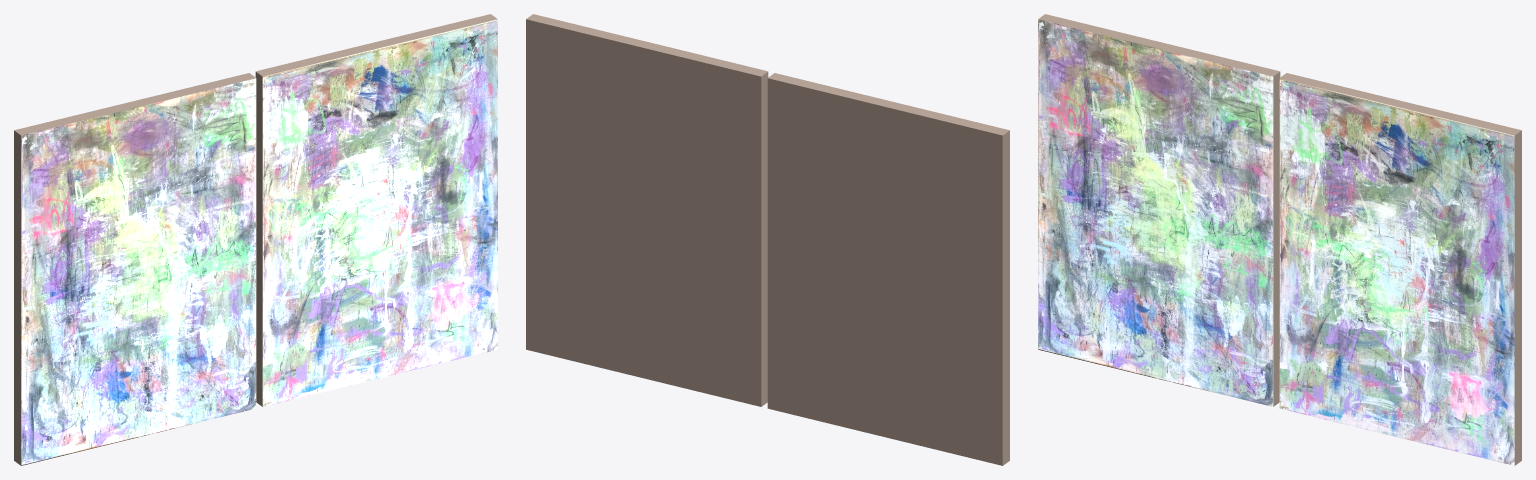
Rendered from lizard-rhapsody-none.glb.
3 renders of one model, left to right at view 1: azimuth 30°, elevation 25°; view 2: azimuth 150°, elevation 25°; view 3: azimuth 330°, elevation 25°, orthographic.
Visible parts, largest first — view 1: painting; view 2: painting; view 3: painting.
Part boxes in pixels (box(x1,y1,x2,y2)): painting: box(14, 14, 497, 465); painting: box(526, 14, 1009, 465); painting: box(1038, 14, 1521, 465).
Size of the model in its own units: 1.54 by 1.02 by 0.04.
Materials: 3 (2 with a texture image).
